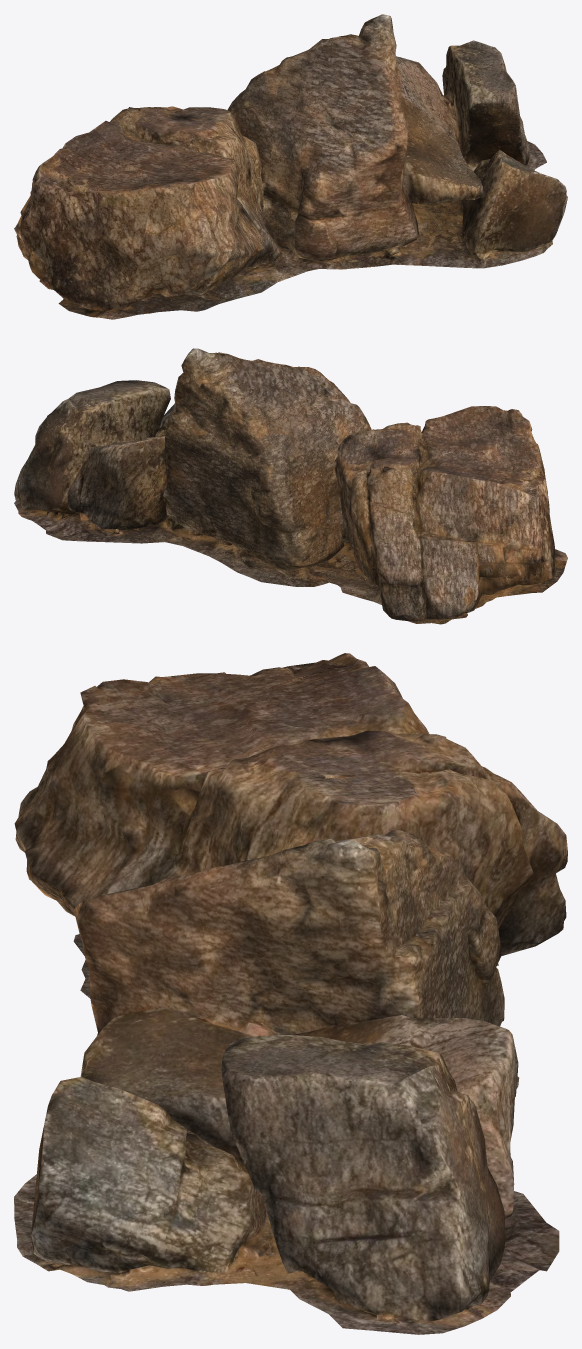
The model's file is namaqualand_boulder_02.glb.
3 renders of one model, top to bottom at view 1: azimuth 30°, elevation 25°; view 2: azimuth 150°, elevation 25°; view 3: azimuth 270°, elevation 25°, orthographic. The views are drawn at different scales.
Parts seen in each view (by area): view 1: boulder_02; view 2: boulder_02; view 3: boulder_02.
Part boxes in pixels (bbox=[...]): boulder_02: bbox=[14, 14, 567, 319]; boulder_02: bbox=[14, 348, 567, 624]; boulder_02: bbox=[14, 653, 567, 1334].
Size of the model in its own units: 2.53 by 0.8804 by 1.23.
Materials: 1 (1 with a texture image).
